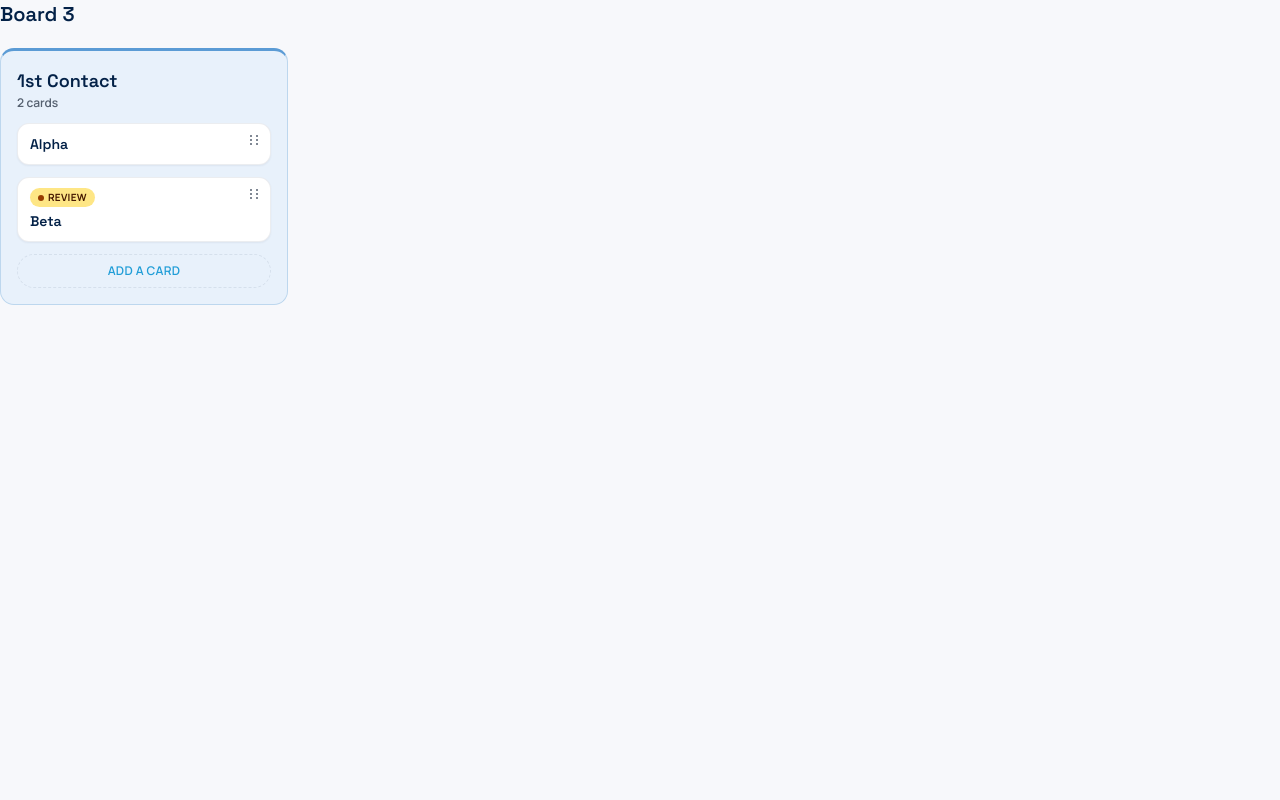
Test: central card reviews: markers on the cards and a dialog per obligation › shows a move into Lost to a Super Admin, with its own label and detail
Click the button with test id "review-marker-22" at (62, 198), box [30, 188, 95, 207]
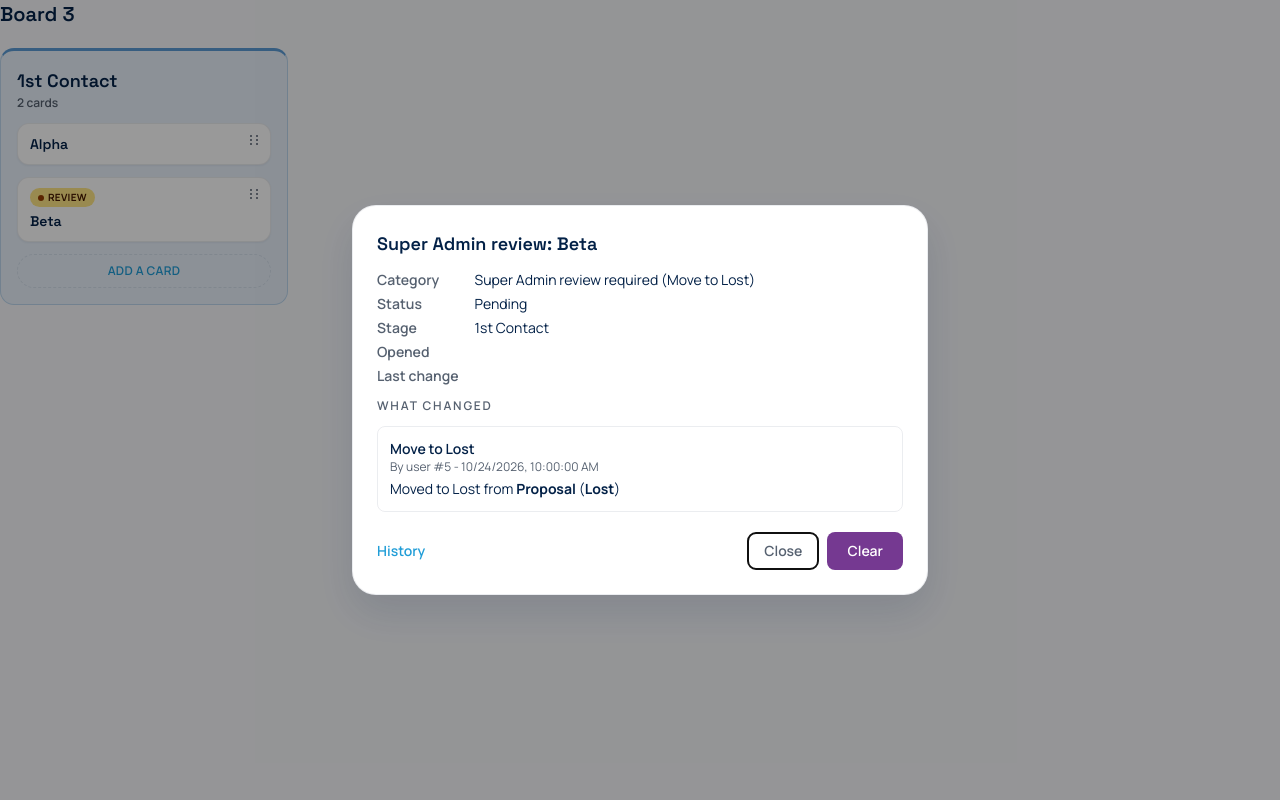
Expected: the list item with test id "review-trigger" shows "Moved to Lost from Proposal", [377, 426, 903, 512]
